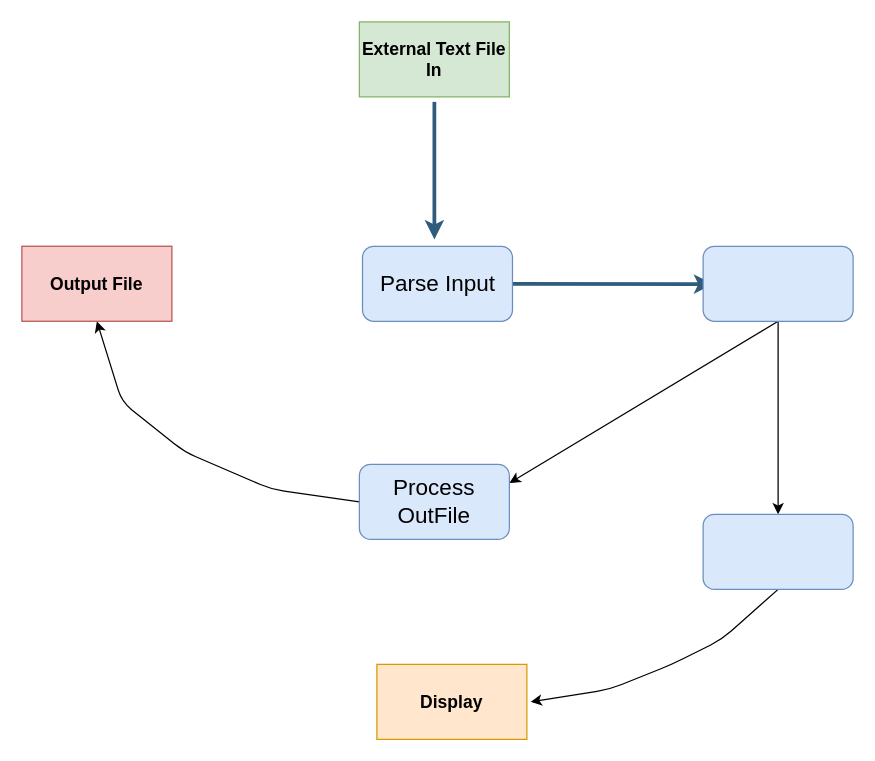
Image size: 875x761. Some labels were removed from this diagram. The shapes that lost their labels are listed below. From the top down, each one's centre as x and y in pixels, then its label:
At (x=777, y=283): "Generate Dictionary".
At (x=777, y=551): "Generate Graph".
